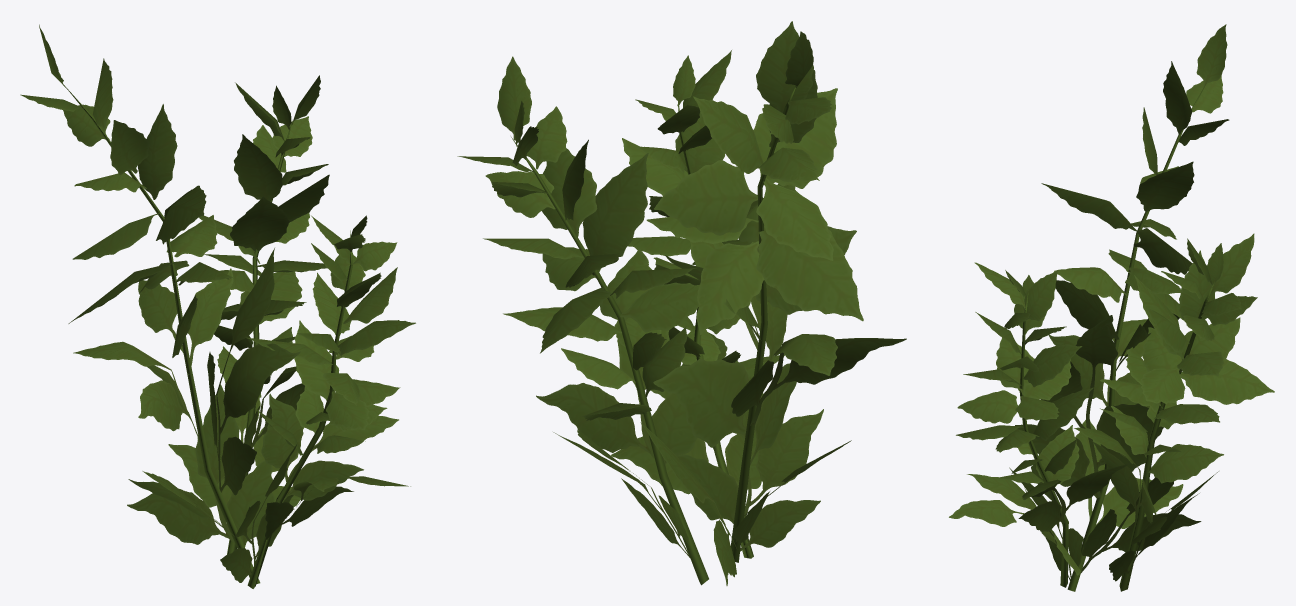
Rendered from MSH_fwOF_ForestPlant_03.fbx.
The picture shows the model from 3 angles, left to right: view 1: azimuth 30°, elevation 25°; view 2: azimuth 150°, elevation 25°; view 3: azimuth 270°, elevation 25°; orthographic projection. The views are drawn at different scales.
Visible parts, largest first — view 1: MSH_fwOF_ForestPlant_03; view 2: MSH_fwOF_ForestPlant_03; view 3: MSH_fwOF_ForestPlant_03.
Part boxes in pixels (x1=…): MSH_fwOF_ForestPlant_03: x1=20, y1=24, x2=415, y2=588; MSH_fwOF_ForestPlant_03: x1=457, y1=21, x2=906, y2=585; MSH_fwOF_ForestPlant_03: x1=949, y1=24, x2=1274, y2=591.
Bounding box in the file's own units: 0.4244 × 0.7107 × 0.423.
